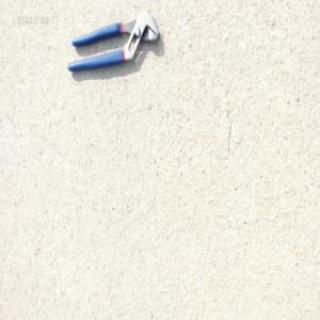Pliertrack_idkeyframe: (64, 8, 158, 74)
